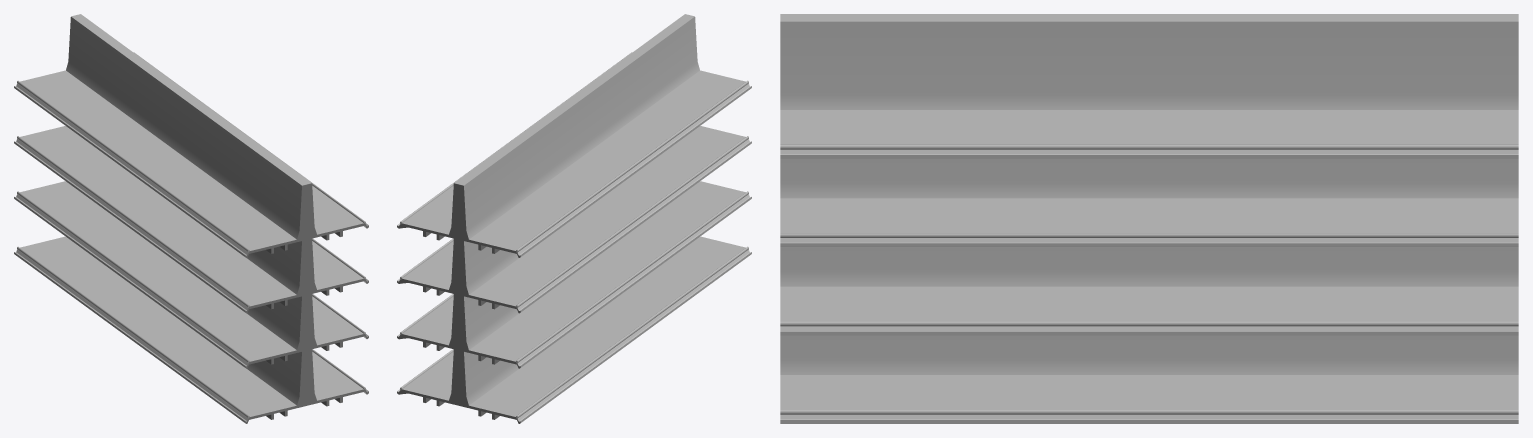
Rendered from Shelve.fbx.
3 views of the same model, side by side, from view 1: azimuth 30°, elevation 25°; view 2: azimuth 150°, elevation 25°; view 3: azimuth 270°, elevation 25° (orthographic). The views are drawn at different scales.
Parts seen in each view (by area): view 1: pCylinder11; view 2: pCylinder11; view 3: pCylinder11.
Part boxes in pixels (bbox=[...]): pCylinder11: bbox=[14, 14, 368, 423]; pCylinder11: bbox=[397, 14, 751, 423]; pCylinder11: bbox=[780, 14, 1518, 423].
Bounding box in the file's own units: 7.64 × 14.31 × 24.77.
1 material, 1 textured.
